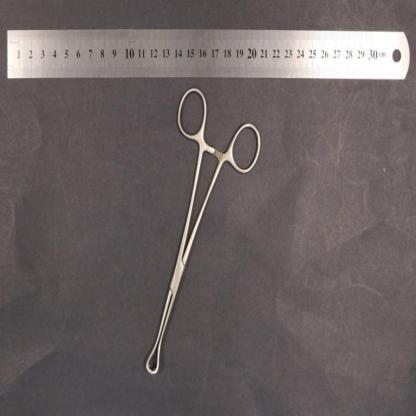Babcock Tissue Forceps: (144, 87, 262, 375)
